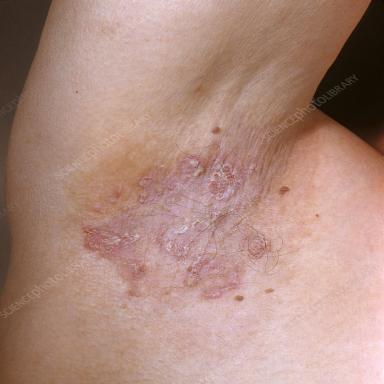Hailey-Hailey-Disease: (85, 156, 268, 297)
